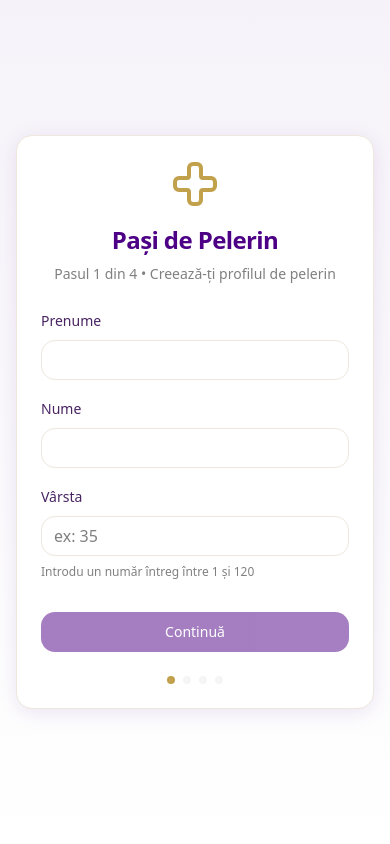
Scenario: Onboarding Flow - UI Integration › enables Continue button when step 1 is filled correctly
Step 1. Type "Ion" into the field labelled "Prenume" → point(195, 360), box [41,340,349,380]
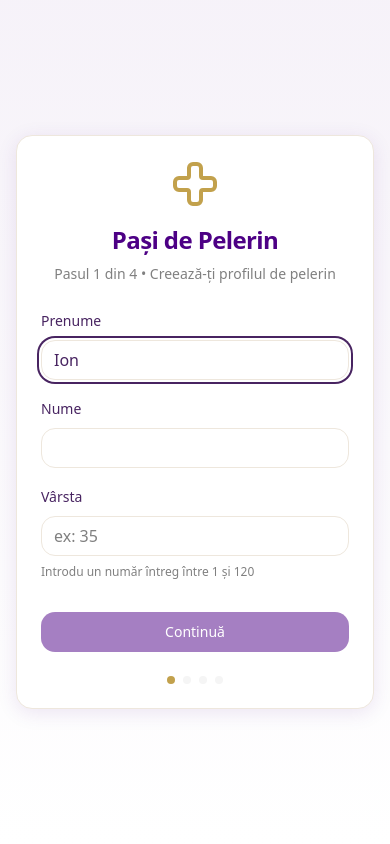
Step 2. Type "Popescu" into the field labelled "Nume" → point(195, 448), box [41,428,349,468]
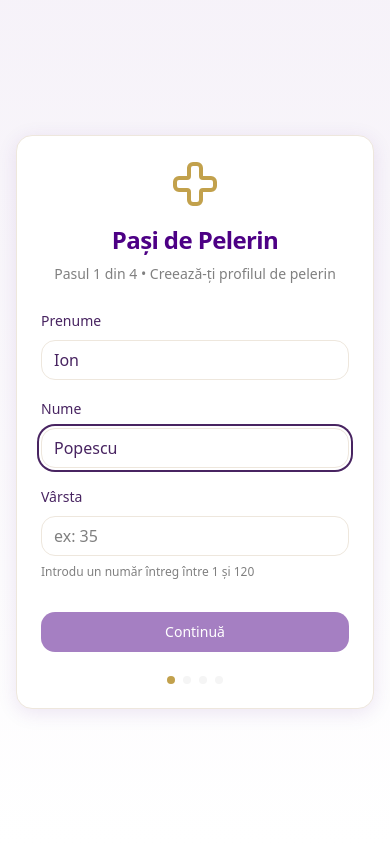
Step 3. Type "30" into the field labelled "Vârsta" → point(195, 536), box [41,516,349,556]
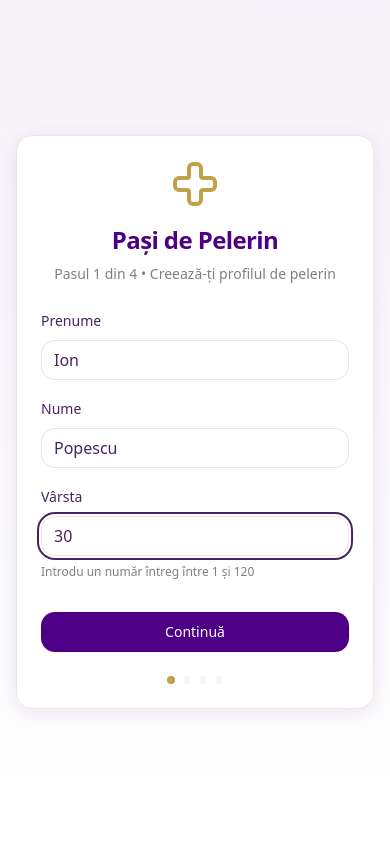
Now the button "Continuă" is enabled, box [41,612,349,652]
